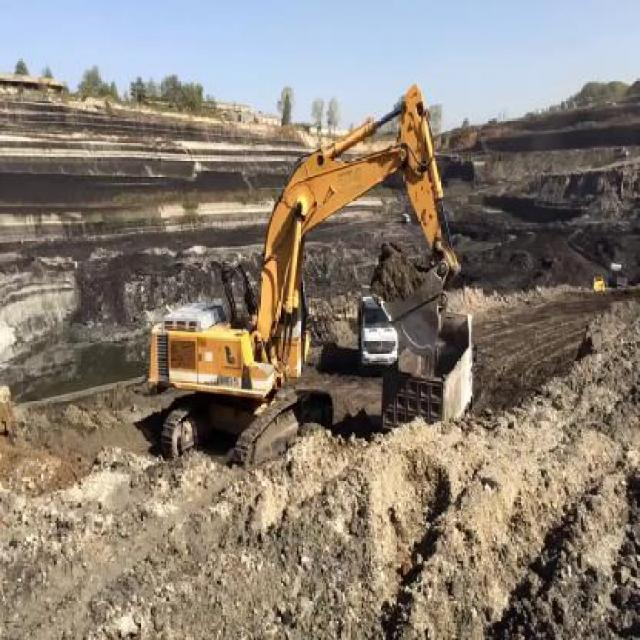Dump Truck: (380, 311, 475, 435), (356, 284, 395, 370)
Excavator: (145, 78, 460, 472)
